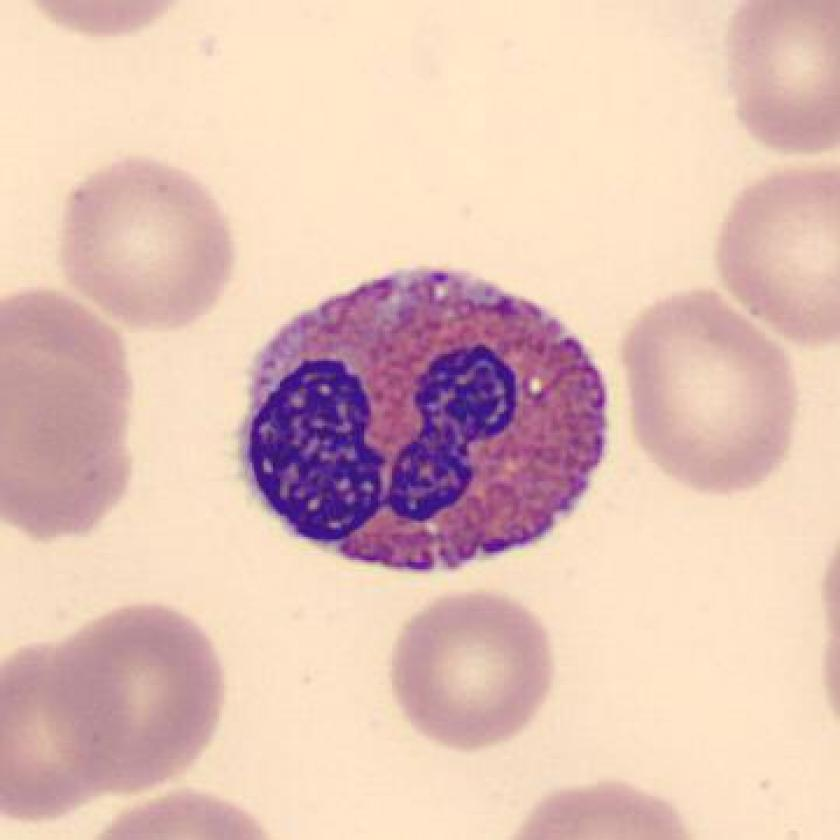eosinophil: (230, 251, 619, 589)
